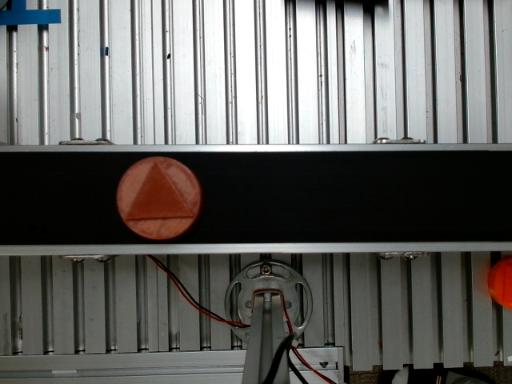Brown_Waper: (117, 157, 202, 239)
Not_Square: (123, 158, 196, 219)
